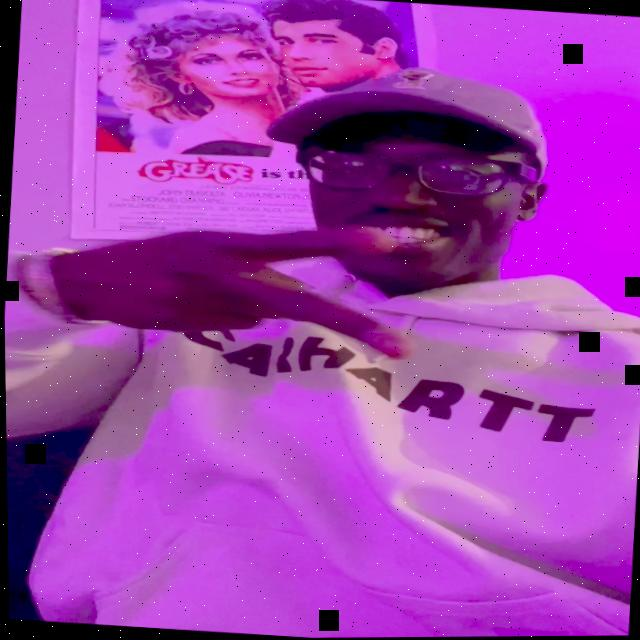Scissors: (33, 202, 423, 363)
